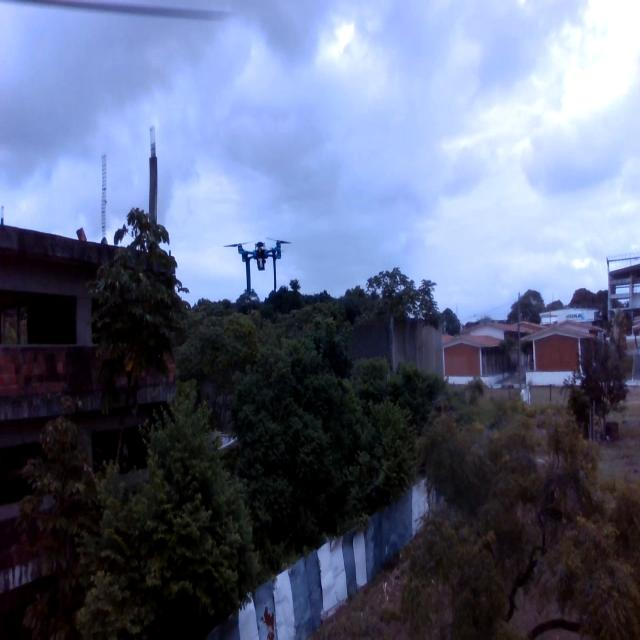-uav-: (221, 216, 302, 302)
